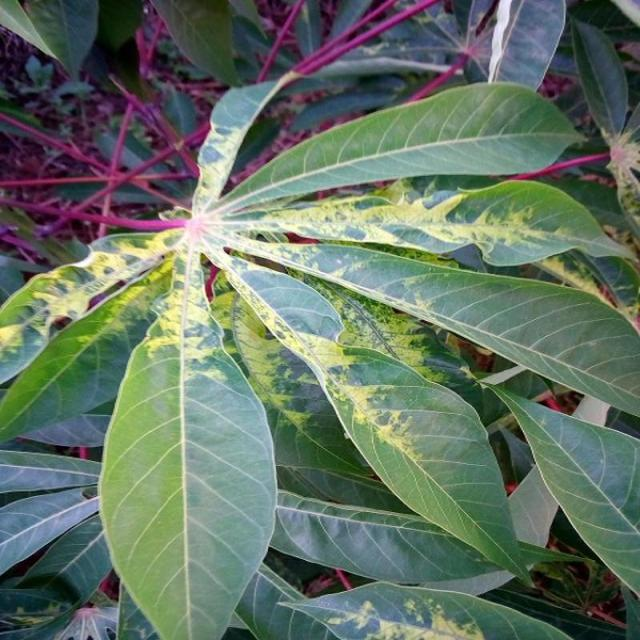cassava leaf: (0, 64, 638, 637), (222, 253, 533, 592), (96, 251, 278, 638)
